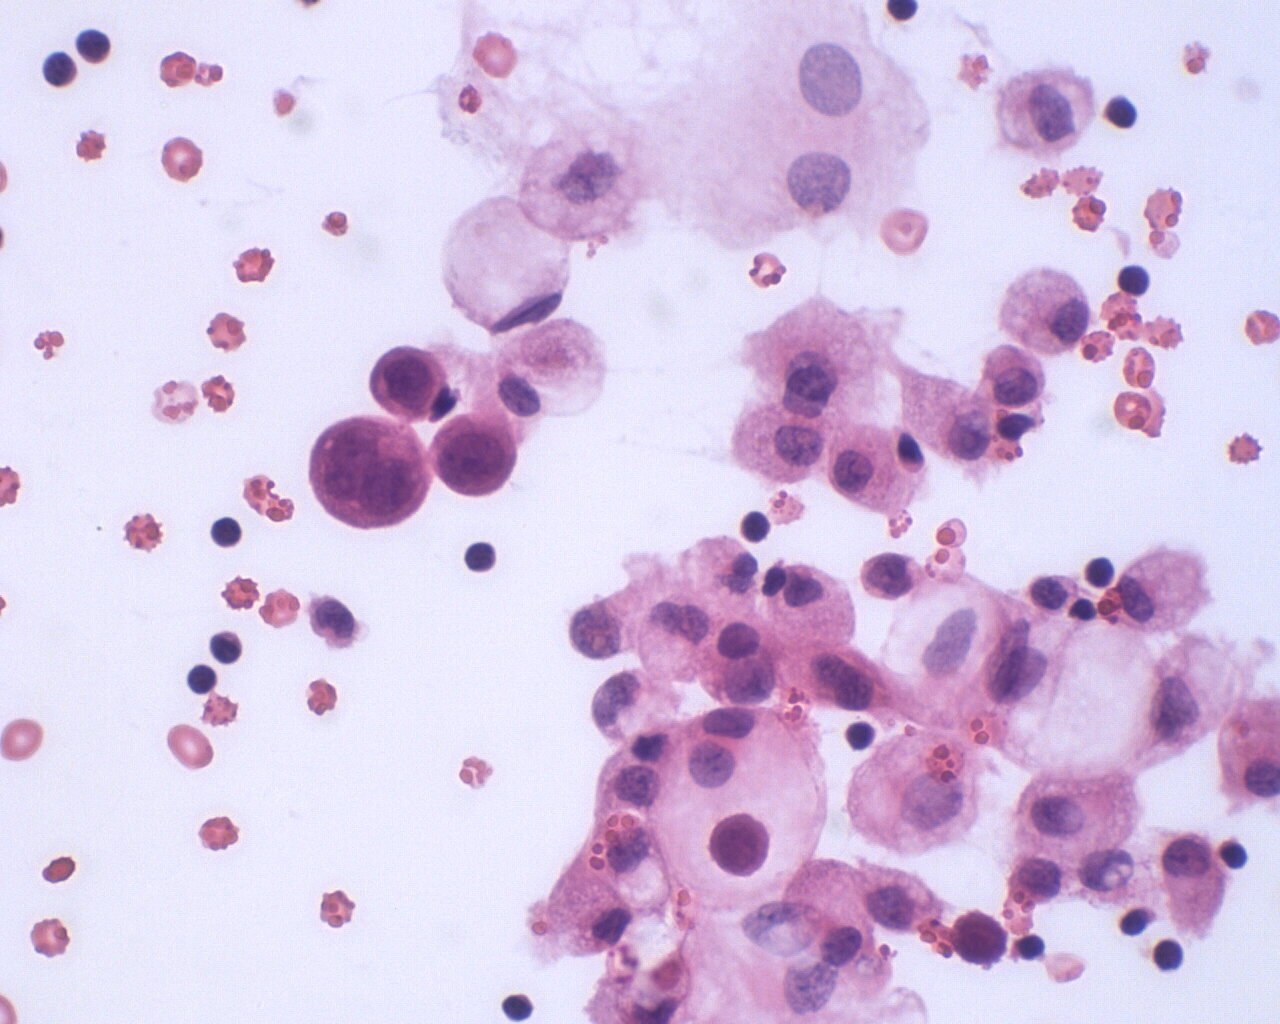ab: (304, 413, 430, 534), (427, 406, 520, 502), (369, 341, 446, 425), (706, 807, 770, 879), (945, 907, 1010, 969)
histo: (436, 191, 576, 338), (847, 723, 981, 860), (1011, 764, 1148, 865), (493, 316, 612, 425), (825, 419, 925, 523), (728, 396, 836, 490), (996, 260, 1090, 360), (1116, 542, 1213, 637)
lymph: (737, 501, 778, 546), (39, 46, 79, 92), (205, 510, 247, 553), (201, 628, 246, 667), (460, 533, 499, 575), (1084, 546, 1119, 592), (495, 988, 540, 1024), (1114, 259, 1153, 300), (1147, 934, 1185, 969)
